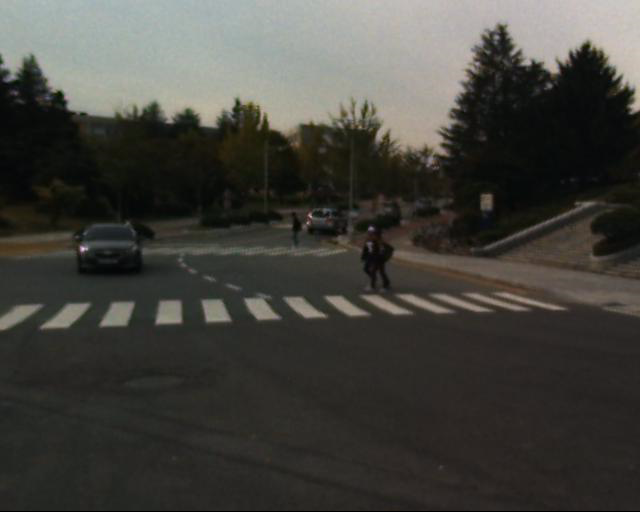person: (349, 223, 398, 293), (121, 215, 141, 254), (288, 212, 308, 250)
